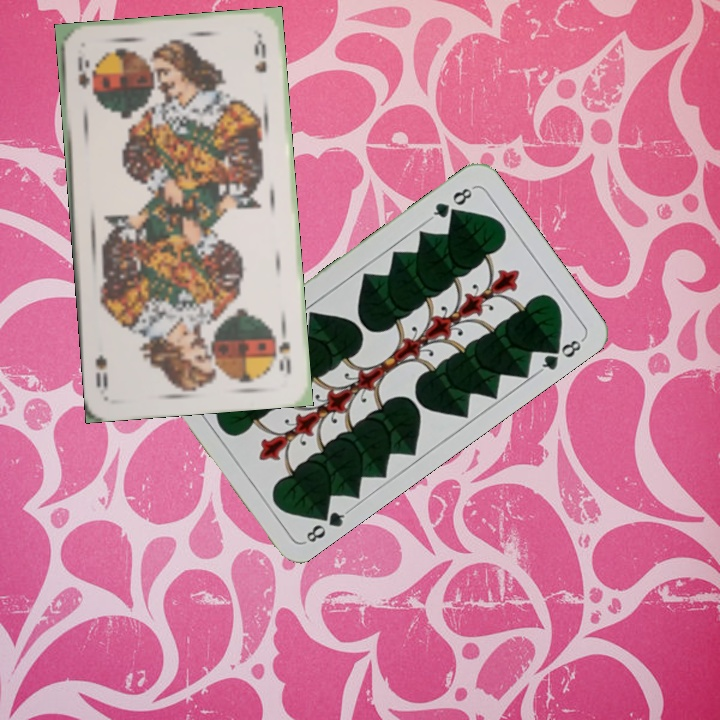G8: (301, 503, 352, 546), (425, 183, 477, 223)
SO: (274, 322, 294, 377), (73, 52, 93, 91)
